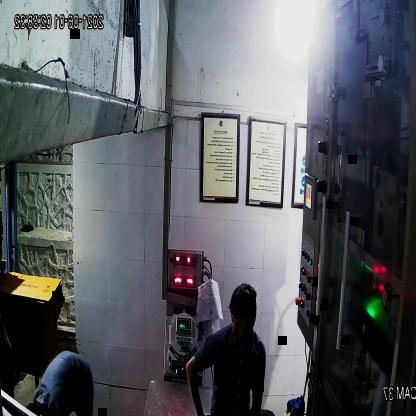no_goggles: (227, 315, 256, 334)
